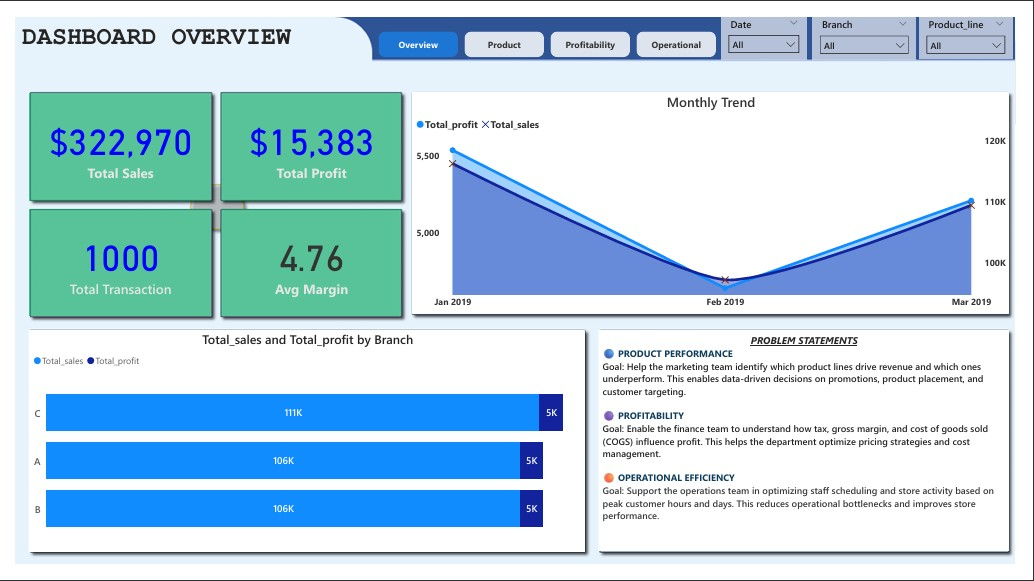

Layout of this report page (visuals, bound fields, positions):
{"tool":"powerbi","page":{"name":"Overview","canvas":[1500,820],"ordinal":0},"visuals":[{"type":"lineChart","title":"Monthly Trend","fields":{"Category":["Monthly trend.month"],"Y2":["Sum(Monthly trend.total_sales)"],"Y":["Sum(Monthly trend.total_profit)"]},"box":[595,113.3,895,331.7],"z":0},{"type":"barChart","fields":{"Category":["Store performance.branch"],"Y":["Sum(Store performance.total_sales)","Sum(Store performance.total_profit)"]},"box":[20.6,469.8,833.3,331.7],"z":1000},{"type":"card","fields":{"Values":["Supermarket.Total Transaction"]},"box":[21,289.2,272.2,159.1],"z":2000},{"type":"card","fields":{"Values":["Supermarket.Total Sales"]},"box":[21,113.6,272.2,161.4],"z":3000},{"type":"card","fields":{"Values":["Supermarket.Total Profit"]},"box":[308.5,113.6,269.3,161.4],"z":4000},{"type":"card","fields":{"Values":["Supermarket.Avg Margin"]},"box":[308.5,289.2,269.3,159.1],"z":5000},{"type":"textbox","box":[874.6,470.1,614.9,331.3],"z":6000},{"type":"textbox","box":[4,5,489.8,77.6],"z":7000},{"type":"slicer","fields":{"Values":["Supermarket.branch"]},"box":[1194.7,1.3,156.6,63.2],"z":8000},{"type":"slicer","fields":{"Values":["Supermarket.product_line"]},"box":[1355.3,1.3,140.8,61.8],"z":9000},{"type":"slicer","fields":{"Values":["Supermarket.date"]},"box":[1058,0,129,63],"z":10000},{"type":"pageNavigator","box":[544.3,20,510,42],"z":15000}]}

Visuals, with their boxes in screenshot pixels (x1, y1, x2, y2), scaled from the page's 1500x820 canvas onto the 1034x581 screenshot:
"Monthly Trend" lineChart: box=[410, 80, 1027, 315]
barChart - Store performance.branch x Sum(Store performance.total_sales): box=[14, 333, 589, 568]
card - Supermarket.Total Transaction: box=[14, 205, 202, 318]
card - Supermarket.Total Sales: box=[14, 80, 202, 195]
card - Supermarket.Total Profit: box=[213, 80, 398, 195]
card - Supermarket.Avg Margin: box=[213, 205, 398, 318]
textbox: box=[603, 333, 1027, 568]
textbox: box=[3, 4, 340, 59]
slicer - Supermarket.branch: box=[824, 1, 931, 46]
slicer - Supermarket.product_line: box=[934, 1, 1031, 45]
slicer - Supermarket.date: box=[729, 0, 818, 45]
pageNavigator: box=[375, 14, 727, 44]
